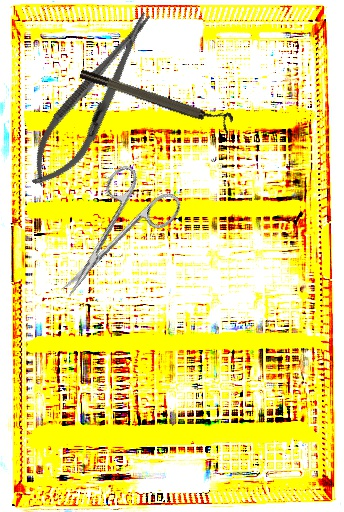Fixation Ring: (78, 60, 235, 135)
Iris Scissors: (33, 155, 187, 317)
Needle Holder: (17, 1, 168, 199)
